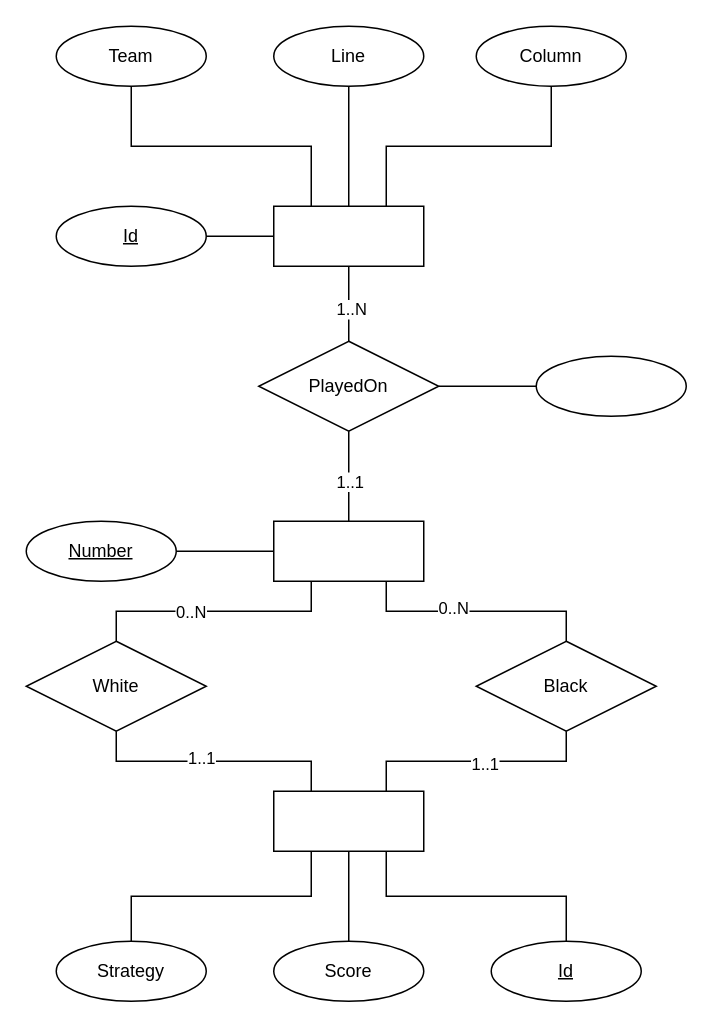
Image size: 713x1028. Some labels were removed from this diagram. The shapes that lost their labels are listed below. From the top down, each one's box as (x1, y1, x2, y2) in pixels, then its label:
(272, 205, 424, 266): Move
(535, 355, 686, 416): Order
(272, 520, 424, 581): Game
(272, 790, 424, 851): Player
